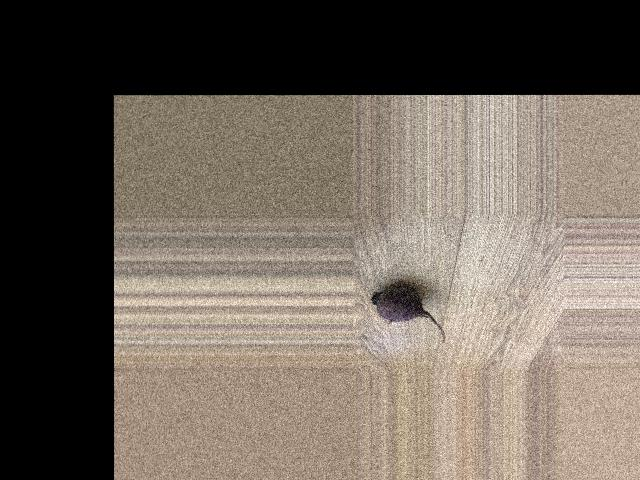beet: (372, 287, 447, 342)
